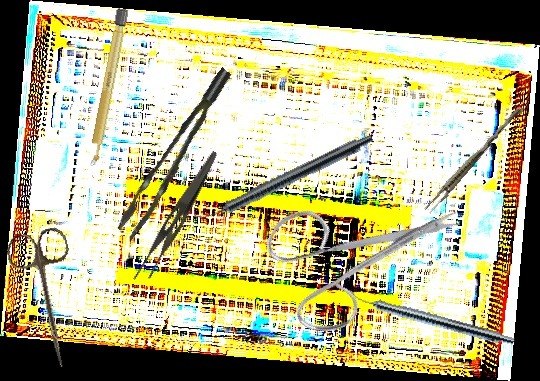Dressing Forceps: (131, 143, 219, 289)
Handpiece: (192, 128, 376, 230), (344, 287, 518, 349)
Iris Scissors: (239, 133, 466, 368), (3, 225, 95, 374)
Scalpel Handle: (86, 7, 129, 169)
Tissue Forceps: (102, 67, 252, 240), (423, 102, 525, 216)
